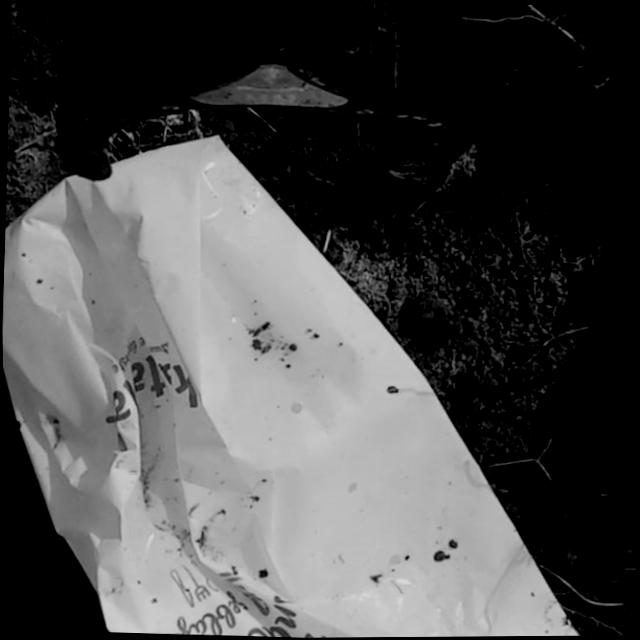Paper: (1, 121, 616, 640)
